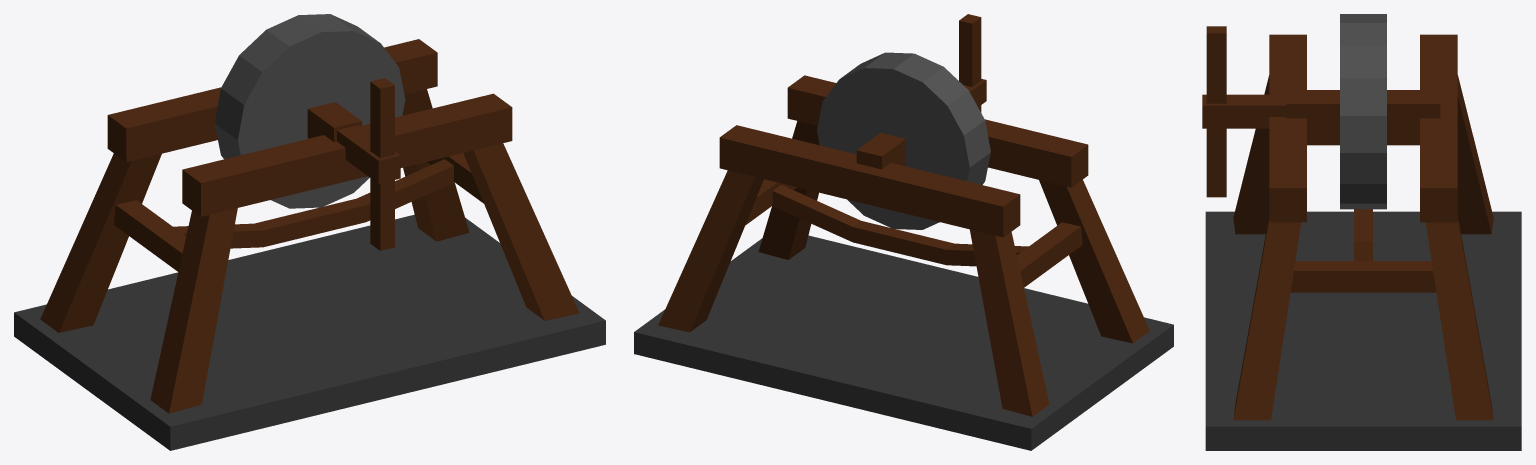
The model's file is Schleifstein.fbx.
The picture shows the model from 3 angles, left to right: view 1: azimuth 30°, elevation 25°; view 2: azimuth 150°, elevation 25°; view 3: azimuth 270°, elevation 25°; orthographic projection. The views are drawn at different scales.
Parts seen in each view (by area): view 1: Schleifstein; view 2: Schleifstein; view 3: Schleifstein.
Part boxes in pixels (bbox=[...]): Schleifstein: bbox=[14, 14, 605, 450]; Schleifstein: bbox=[634, 14, 1173, 450]; Schleifstein: bbox=[1202, 14, 1521, 450].
Size of what is drawn, in the model's own units: 172 by 120 by 108.
